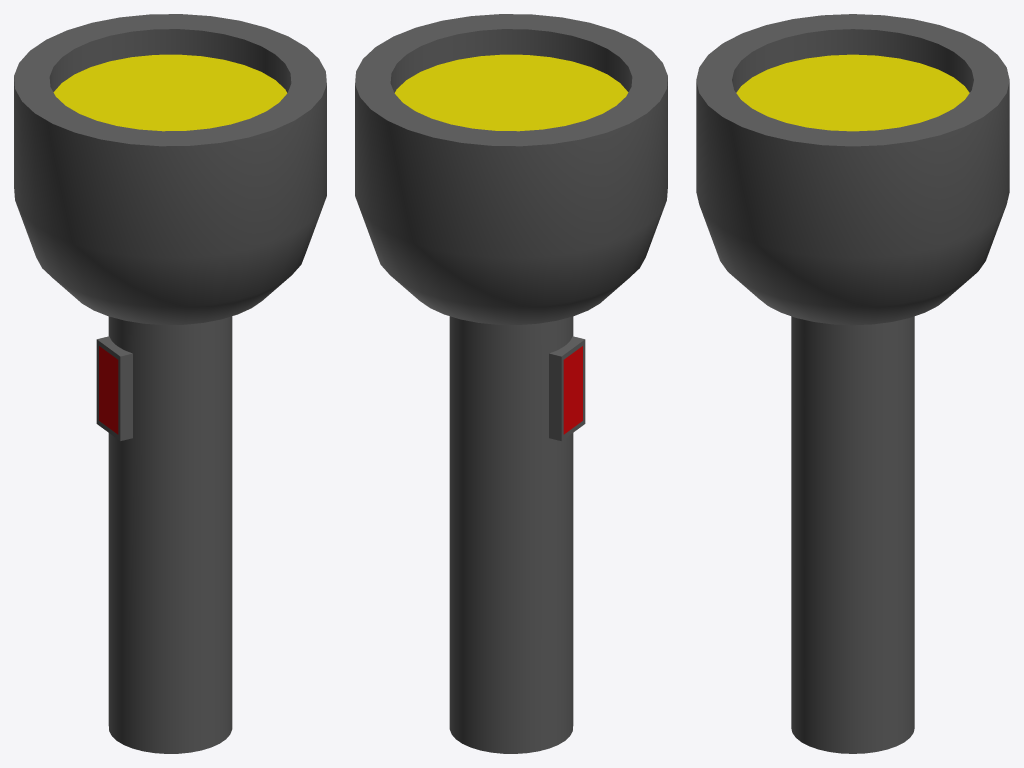
File: flashlight.fbx
3 renders of one model, left to right at view 1: azimuth 30°, elevation 25°; view 2: azimuth 150°, elevation 25°; view 3: azimuth 270°, elevation 25°, orthographic.
Parts seen in each view (by area): view 1: Cylinder; view 2: Cylinder; view 3: Cylinder.
Boxes of the visible parts, x1,y1,x2,y2 form: Cylinder: (14, 14, 326, 753); Cylinder: (355, 14, 667, 753); Cylinder: (696, 14, 1009, 753).
Size of the model in its own units: 507 by 507 by 1156.
